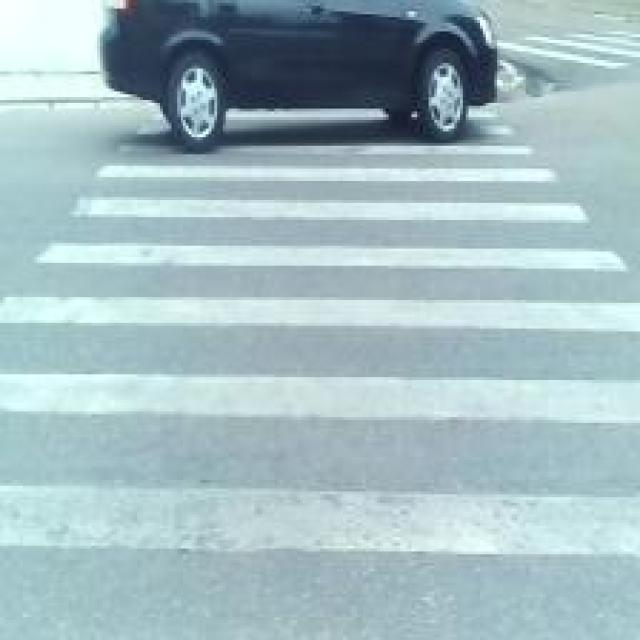walk-crossing: (97, 154, 566, 640)
